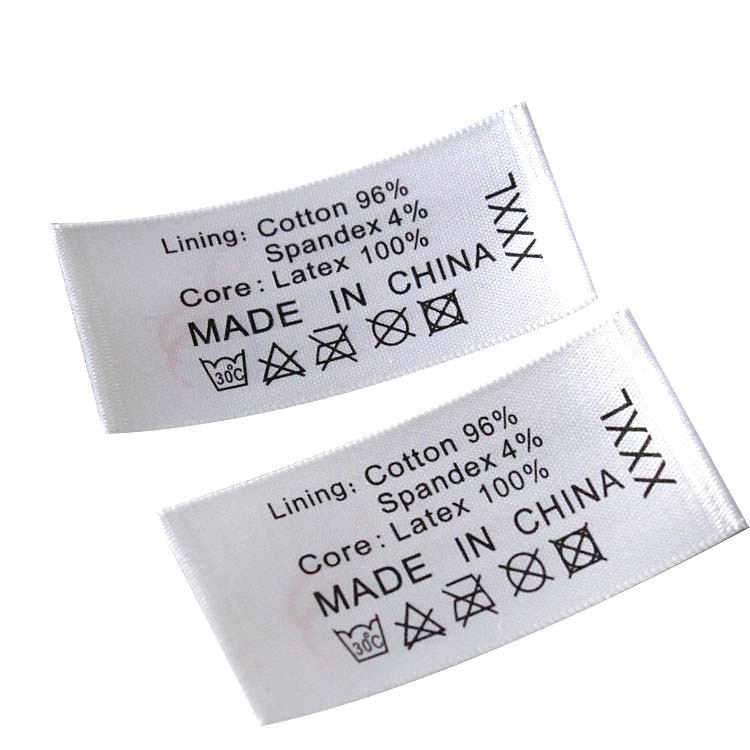ER_no_bleach: (397, 598, 447, 649), (256, 341, 306, 385)
ER_no_dry_clean: (495, 544, 556, 598), (364, 308, 416, 351)
ER_no_iron: (442, 573, 502, 626), (305, 322, 360, 370)
ER_no_tumble_dry: (550, 527, 613, 578), (417, 289, 468, 338)
ER_wash_30: (335, 614, 393, 664), (199, 344, 252, 396)
